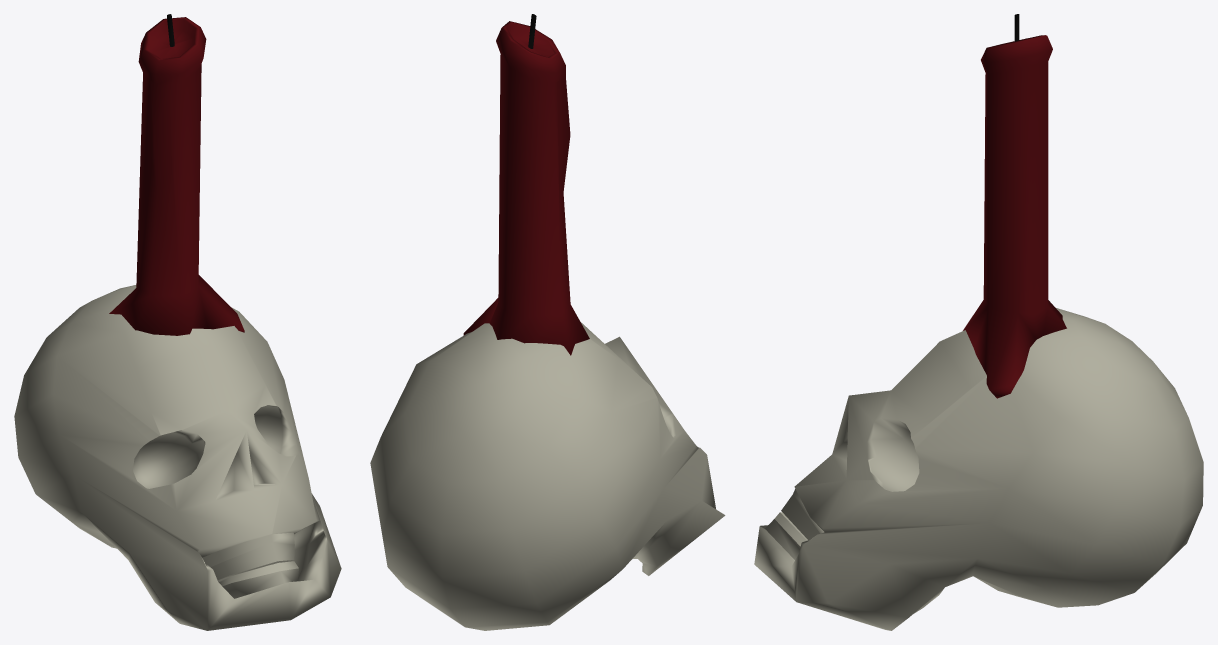
The model's file is Skull_Candle.fbx.
3 views of the same model, side by side, from view 1: azimuth 30°, elevation 25°; view 2: azimuth 150°, elevation 25°; view 3: azimuth 270°, elevation 25° (orthographic). The views are drawn at different scales.
Visible parts, largest first — view 1: pCylinder48; view 2: pCylinder48; view 3: pCylinder48.
Boxes of the visible parts, x1,y1,x2,y2 form: pCylinder48: (14, 14, 341, 630); pCylinder48: (370, 14, 725, 630); pCylinder48: (754, 14, 1203, 630).
Size of the model in its own units: 7.2 by 16.96 by 11.63.
